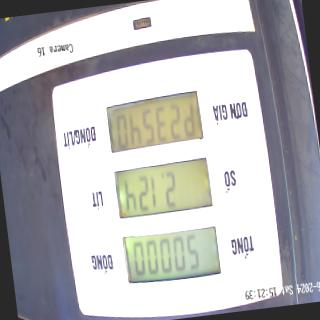screen: (102, 90, 225, 290)
